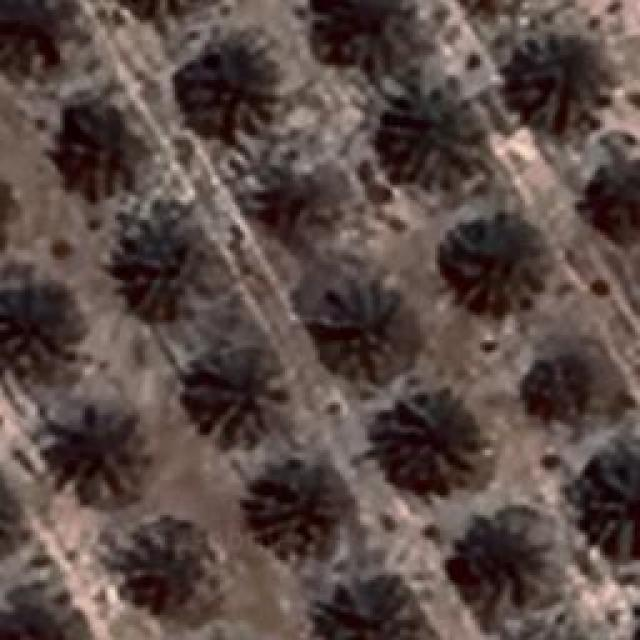PalmTree: (38, 70, 77, 615), (380, 80, 490, 190), (370, 390, 482, 495), (437, 212, 545, 312), (182, 345, 288, 445), (242, 455, 348, 550), (180, 35, 275, 140), (502, 28, 608, 122), (58, 92, 142, 202), (48, 408, 142, 502), (315, 282, 403, 380), (118, 215, 206, 310), (458, 515, 552, 603), (311, 0, 414, 75), (116, 522, 209, 602), (0, 276, 72, 371), (587, 435, 635, 563), (254, 151, 328, 234), (582, 148, 640, 252), (317, 587, 424, 640), (521, 346, 594, 416), (0, 466, 22, 560), (113, 0, 213, 16), (0, 466, 15, 559), (38, 36, 76, 70), (111, 0, 212, 11)
